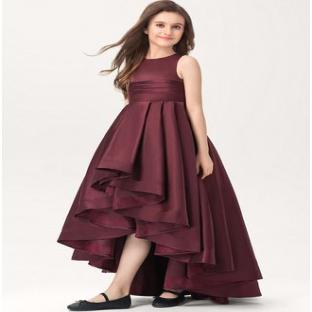Human: (59, 0, 262, 311)
